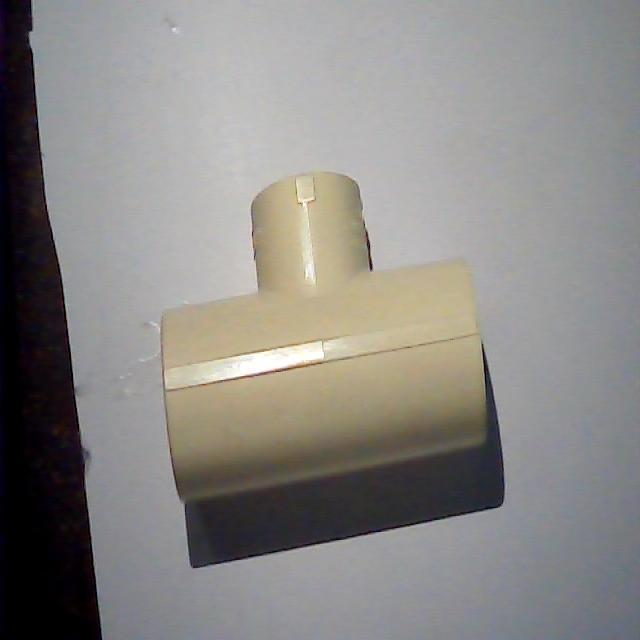T Joint: (161, 173, 494, 504)
